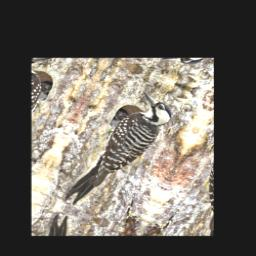Woodpecker: (60, 84, 179, 222)
